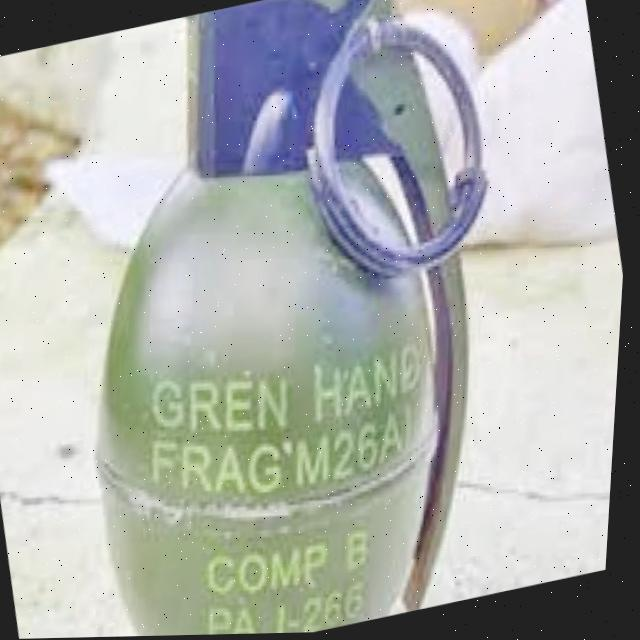grenade: (0, 0, 602, 640)
